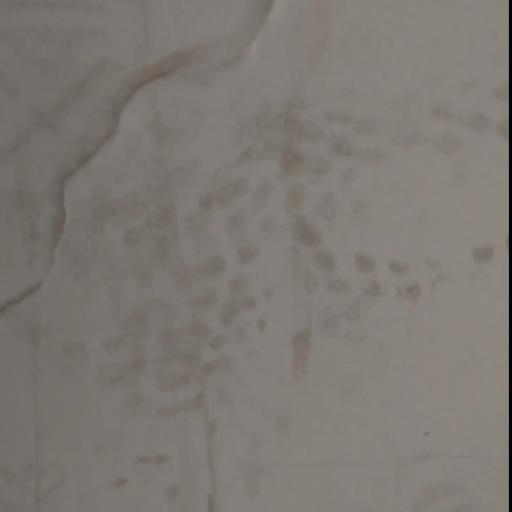stain: (127, 96, 512, 491)
